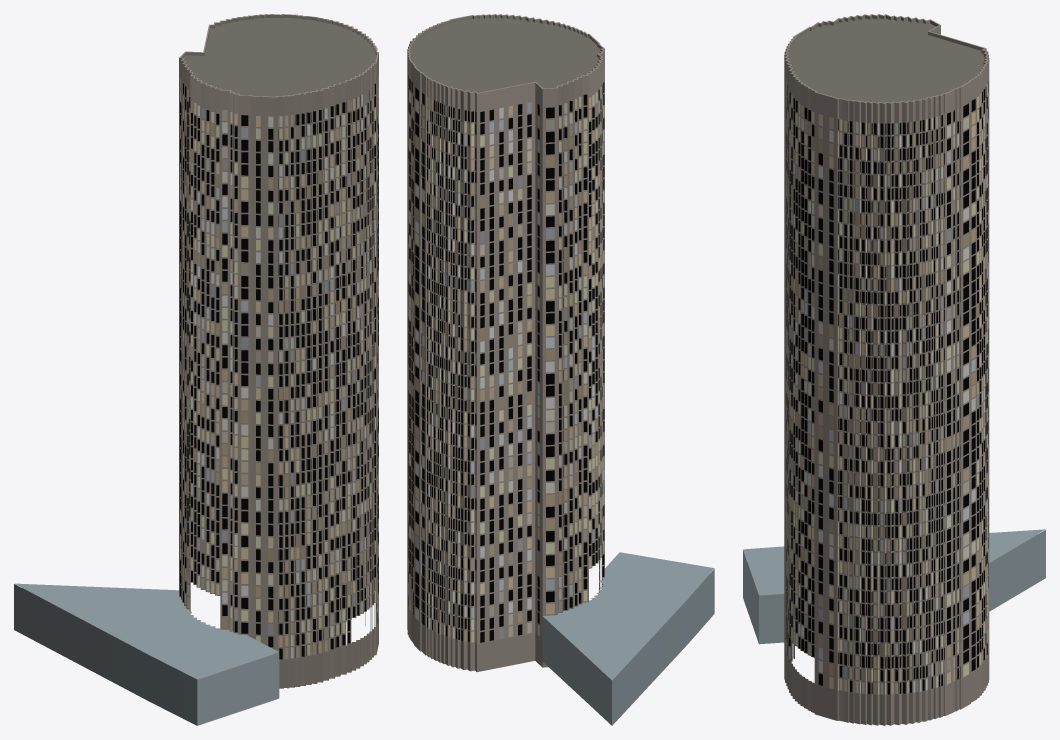
The picture shows the model from 3 angles, left to right: view 1: azimuth 30°, elevation 25°; view 2: azimuth 150°, elevation 25°; view 3: azimuth 270°, elevation 25°; orthographic projection. The views are drawn at different scales.
Visible parts, largest first — view 1: L1_granite, L1_win, L1_glassc, L1_roof; view 2: L1_granite, L1_win, L1_glassc, L1_roof; view 3: L1_granite, L1_win, L1_roof, L1_glassc.
Part boxes in pixels (x1=…): L1_granite: x1=179, y1=14, x2=378, y2=688; L1_win: x1=22, y1=74, x2=378, y2=679; L1_glassc: x1=14, y1=583, x2=279, y2=725; L1_roof: x1=183, y1=17, x2=376, y2=96; L1_granite: x1=407, y1=14, x2=604, y2=671; L1_win: x1=408, y1=70, x2=708, y2=680; L1_glassc: x1=542, y1=552, x2=714, y2=725; L1_roof: x1=410, y1=18, x2=600, y2=92; L1_granite: x1=784, y1=14, x2=989, y2=725; L1_win: x1=750, y1=81, x2=1037, y2=694; L1_roof: x1=789, y1=18, x2=984, y2=102; L1_glassc: x1=743, y1=529, x2=1045, y2=644.
Bounding box in the file's own units: 90.68 × 186 × 82.25.
